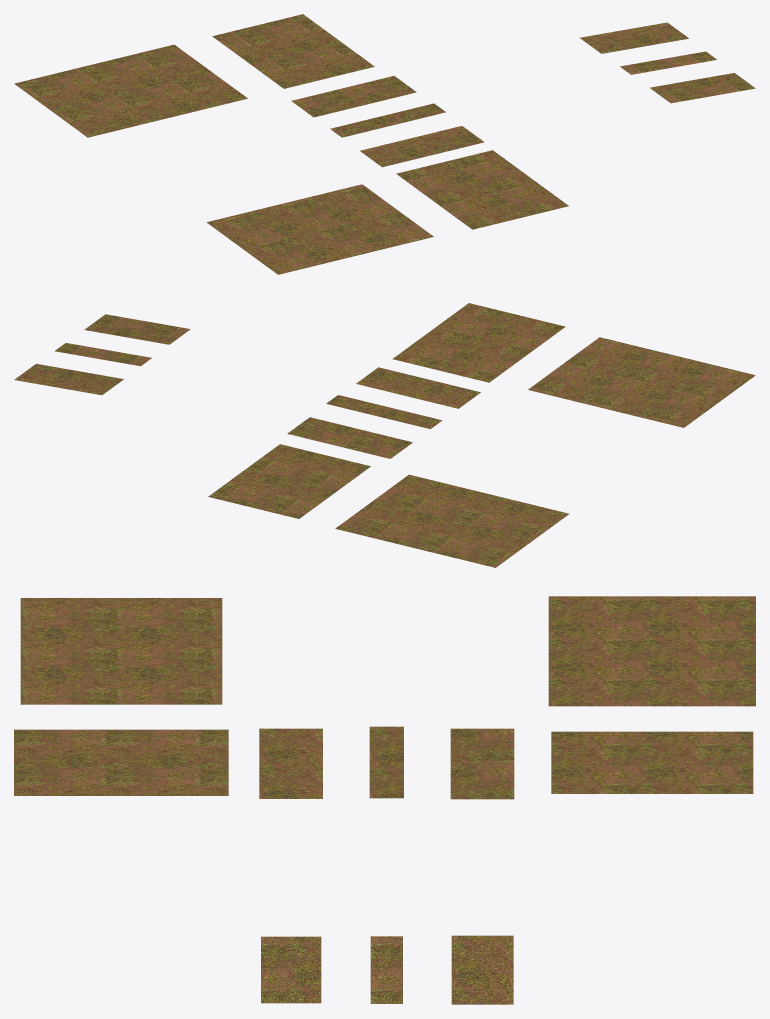
File: grass.obj
3 renders of one model, top to bottom at view 1: azimuth 30°, elevation 25°; view 2: azimuth 150°, elevation 25°; view 3: azimuth 270°, elevation 25°, orthographic. The views are drawn at different scales.
Visible parts, largest first — view 1: square.001_Plane.001; view 2: square.001_Plane.001; view 3: square.001_Plane.001.
Part boxes in pixels (bbox=[...]): square.001_Plane.001: bbox=[14, 14, 755, 274]; square.001_Plane.001: bbox=[14, 303, 755, 567]; square.001_Plane.001: bbox=[14, 596, 755, 1004].
Bounding box in the file's own units: 16.27 × 0.3864 × 13.13.
Materials: 1 (1 with a texture image).
